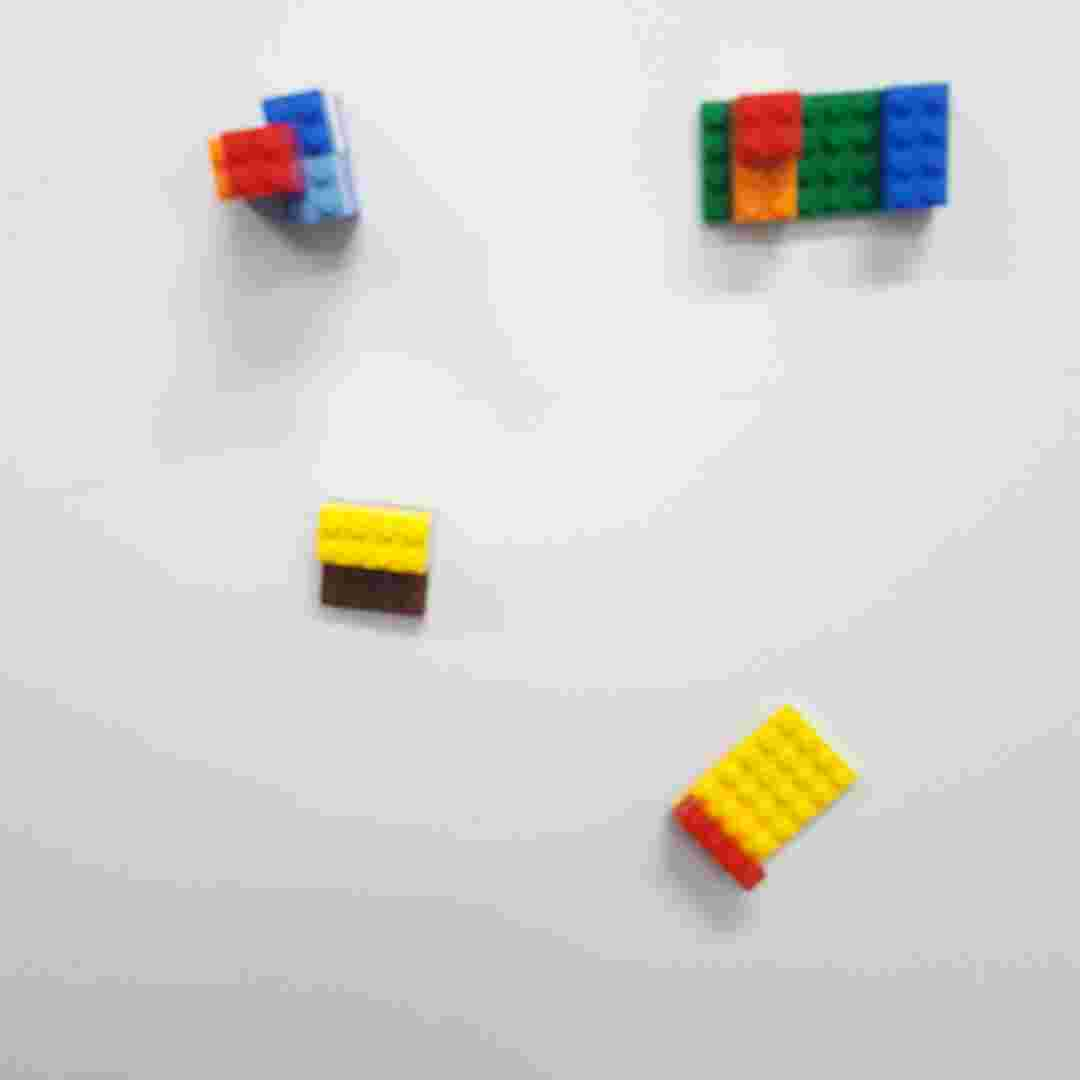LEGO: (691, 76, 957, 242), (659, 704, 865, 896), (204, 82, 361, 244), (312, 497, 438, 619)
